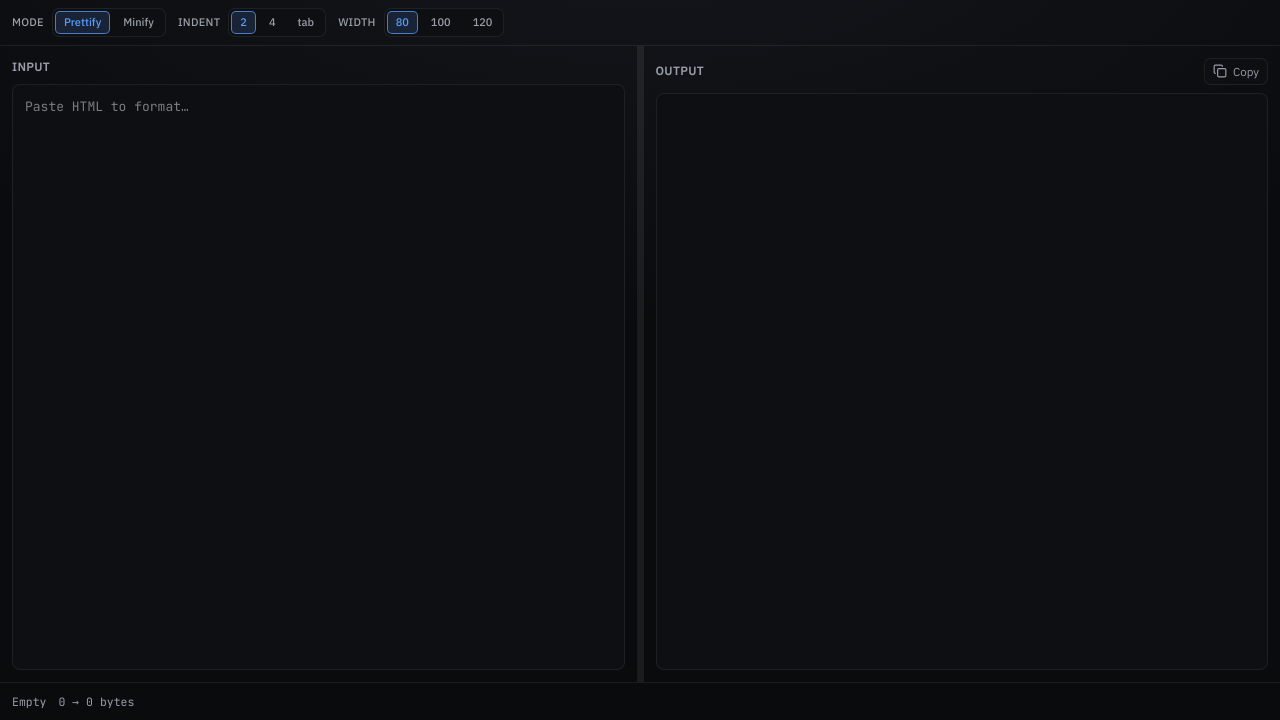
Test case: HtmlFormatterTool › exposes the printWidth (Width) control in Prettify and hides it in Minify (D-04)
Expected: the element named "Width" is shown, [384,8,504,36]
Click the button "Minify" at (139, 22), box [114,11,163,34]
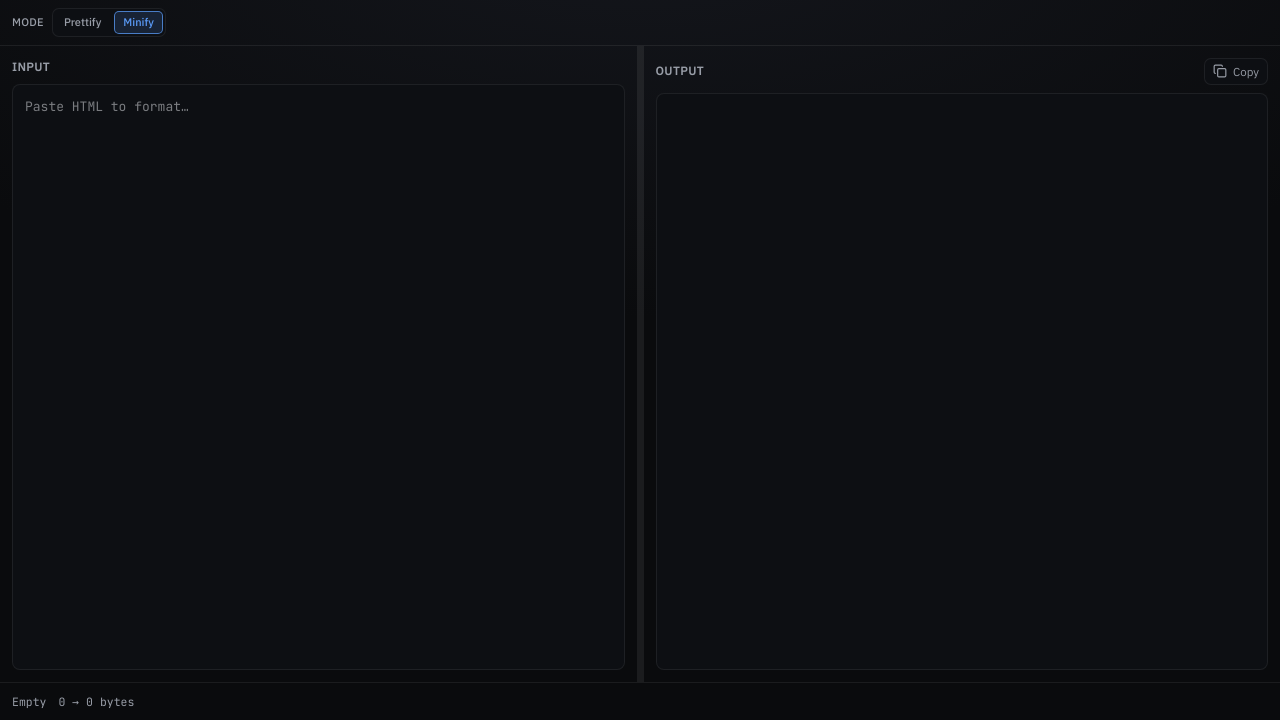
Expected: the text "Width" is gone
Click the button "Prettify" at (83, 22), box [55,11,110,34]
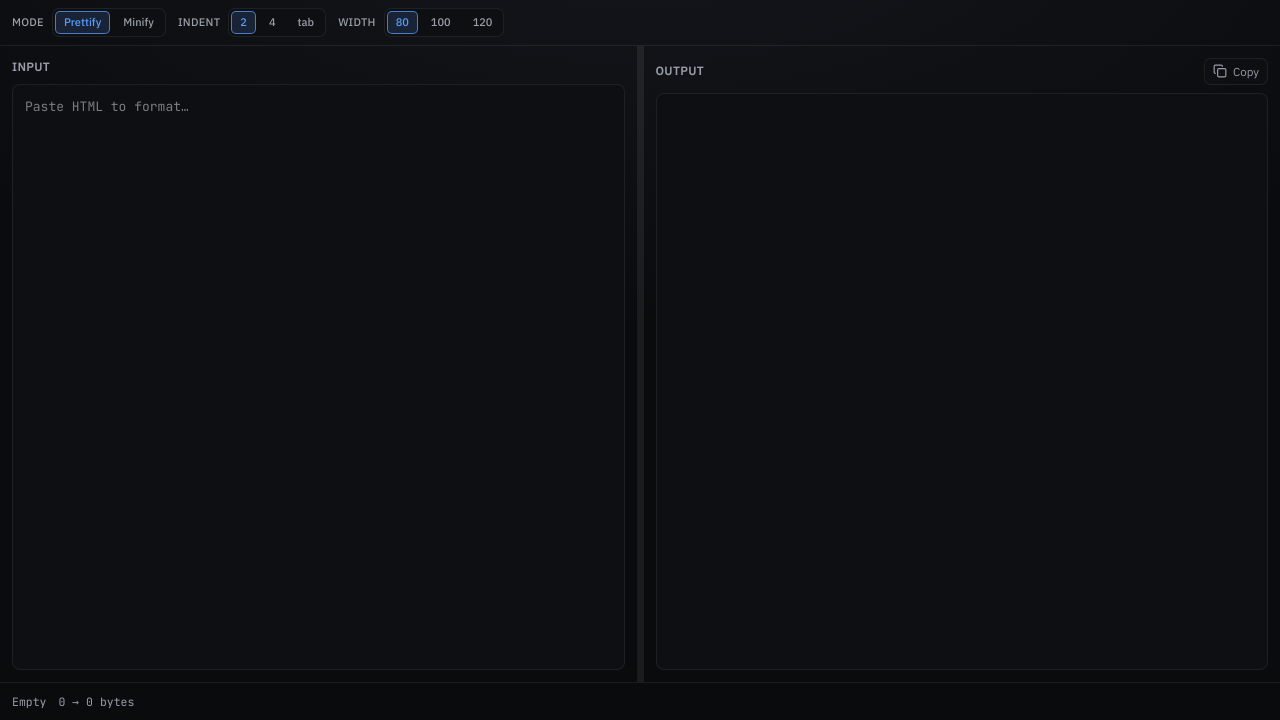
Expected: the element named "Width" is shown, [384,8,504,36]
